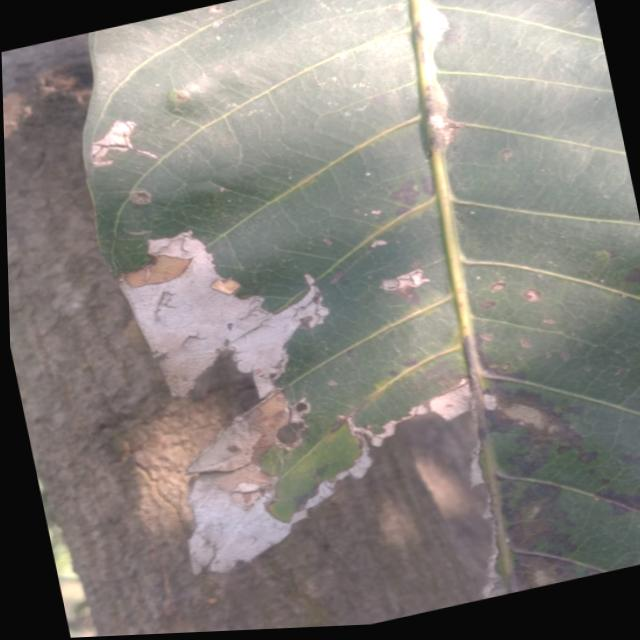Bacterial Cancer: (122, 258, 192, 288), (241, 407, 290, 441)
Powdery Mildew: (127, 261, 294, 411), (189, 482, 268, 571), (380, 269, 429, 293)
black die: (524, 513, 579, 554), (608, 492, 640, 517)
